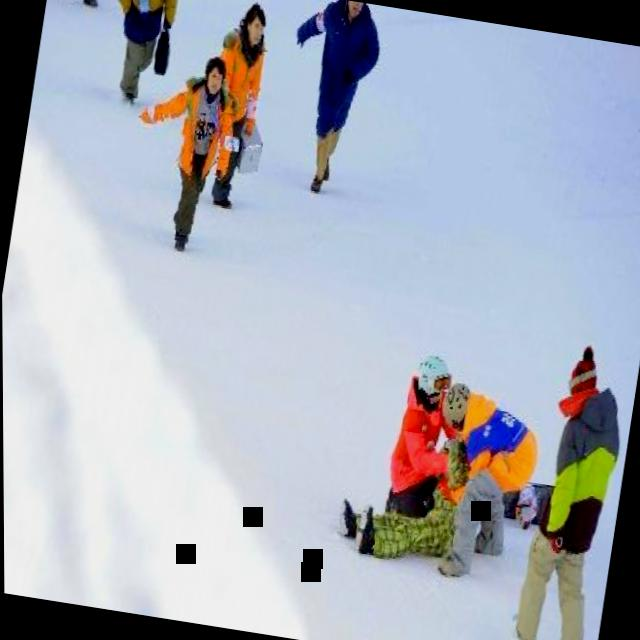Fall-Detected: (115, 34, 258, 265)
